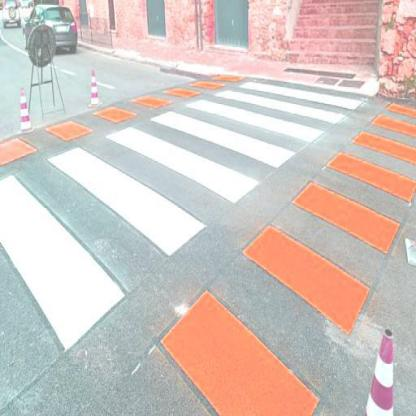crosswalk: (41, 118, 266, 269)
